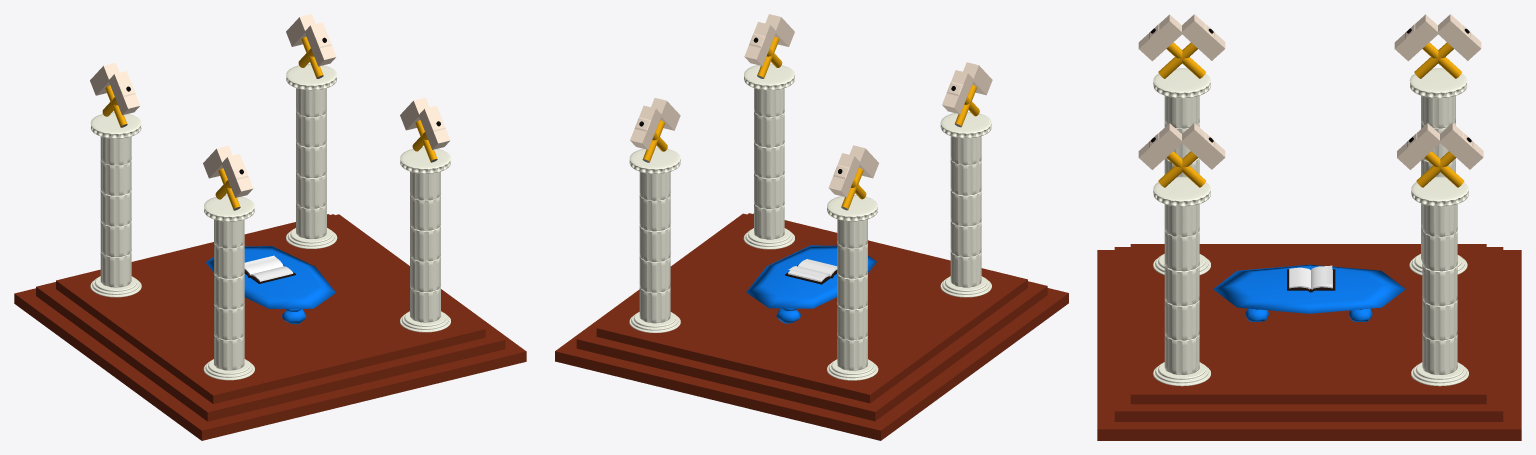
The model's file is SmithsALTAR1.obj.
The picture shows the model from 3 angles, left to right: view 1: azimuth 30°, elevation 25°; view 2: azimuth 150°, elevation 25°; view 3: azimuth 270°, elevation 25°; orthographic projection. The views are drawn at different scales.
Parts seen in each view (by area): view 1: MushroomsALTAR2:altar:pCube15 MushroomsALTAR2:polySurface30, MushroomsALTAR2:altar:polySurface29 MushroomsALTAR2:altar:pCube1, MushroomsALTAR2:altar:pCube15 MushroomsALTAR2:polySurface29, MushroomsALTAR2:altar:pCylinder12, MushroomsALTAR2:altar:pCylinder10, MushroomsALTAR2:altar:pCylinder11, MushroomsALTAR2:altar:pCylinder9, MushroomsALTAR2:altar:polySurface26 MushroomsALTAR2:polySurface3, Smiths:pCylinder30, pCylinder32, pCylinder31, pCylinder30; view 2: MushroomsALTAR2:altar:pCube15 MushroomsALTAR2:polySurface30, MushroomsALTAR2:altar:polySurface29 MushroomsALTAR2:altar:pCube1, MushroomsALTAR2:altar:pCube15 MushroomsALTAR2:polySurface29, MushroomsALTAR2:altar:pCylinder11, MushroomsALTAR2:altar:pCylinder9, MushroomsALTAR2:altar:pCylinder10, MushroomsALTAR2:altar:pCylinder12, MushroomsALTAR2:altar:polySurface26 MushroomsALTAR2:polySurface3, Smiths:pCylinder30, pCylinder31, pCylinder30, pCylinder32; view 3: MushroomsALTAR2:altar:pCube15 MushroomsALTAR2:polySurface30, MushroomsALTAR2:altar:polySurface29 MushroomsALTAR2:altar:pCube1, MushroomsALTAR2:altar:pCube15 MushroomsALTAR2:polySurface29, MushroomsALTAR2:altar:pCylinder10, MushroomsALTAR2:altar:pCylinder9, MushroomsALTAR2:altar:polySurface26 MushroomsALTAR2:polySurface3, MushroomsALTAR2:altar:pCylinder12, MushroomsALTAR2:altar:pCylinder11, pCylinder31, pCylinder30, Smiths:pCylinder30, pCylinder32 (+1 smaller).
Part boxes in pixels (x1,y1,x2,y2): MushroomsALTAR2:altar:pCube15 MushroomsALTAR2:polySurface30: (56,214,485,403); MushroomsALTAR2:altar:polySurface29 MushroomsALTAR2:altar:pCube1: (14,214,526,440); MushroomsALTAR2:altar:pCube15 MushroomsALTAR2:polySurface29: (36,214,505,421); MushroomsALTAR2:altar:pCylinder12: (90,112,141,297); MushroomsALTAR2:altar:pCylinder10: (400,147,450,332); MushroomsALTAR2:altar:pCylinder11: (203,195,254,380); MushroomsALTAR2:altar:pCylinder9: (286,64,337,248); MushroomsALTAR2:altar:polySurface26 MushroomsALTAR2:polySurface3: (206,246,335,324); Smiths:pCylinder30: (90,63,140,127); pCylinder32: (286,14,336,78); pCylinder31: (400,97,450,162); pCylinder30: (203,145,253,210); MushroomsALTAR2:altar:pCube15 MushroomsALTAR2:polySurface30: (596,213,1027,403); MushroomsALTAR2:altar:polySurface29 MushroomsALTAR2:altar:pCube1: (555,213,1068,440); MushroomsALTAR2:altar:pCube15 MushroomsALTAR2:polySurface29: (576,213,1047,421); MushroomsALTAR2:altar:pCylinder11: (940,112,991,297); MushroomsALTAR2:altar:pCylinder9: (629,147,680,332); MushroomsALTAR2:altar:pCylinder10: (743,64,794,249); MushroomsALTAR2:altar:pCylinder12: (827,195,878,380); MushroomsALTAR2:altar:polySurface26 MushroomsALTAR2:polySurface3: (746,245,876,323); Smiths:pCylinder30: (828,145,878,210); pCylinder31: (744,14,794,78); pCylinder30: (942,62,992,127); pCylinder32: (630,98,680,162); MushroomsALTAR2:altar:pCube15 MushroomsALTAR2:polySurface30: (1130,244,1486,404); MushroomsALTAR2:altar:polySurface29 MushroomsALTAR2:altar:pCube1: (1097,250,1521,440); MushroomsALTAR2:altar:pCube15 MushroomsALTAR2:polySurface29: (1114,247,1503,421); MushroomsALTAR2:altar:pCylinder10: (1153,176,1210,386); MushroomsALTAR2:altar:pCylinder9: (1411,176,1468,386); MushroomsALTAR2:altar:polySurface26 MushroomsALTAR2:polySurface3: (1213,264,1405,321); MushroomsALTAR2:altar:pCylinder12: (1409,68,1467,275); MushroomsALTAR2:altar:pCylinder11: (1153,68,1210,275); pCylinder31: (1138,123,1225,187); pCylinder30: (1138,14,1225,78); Smiths:pCylinder30: (1394,14,1481,78); pCylinder32: (1397,123,1483,187).
Bounding box in the file's own units: 13.82 × 10.04 × 13.82.
